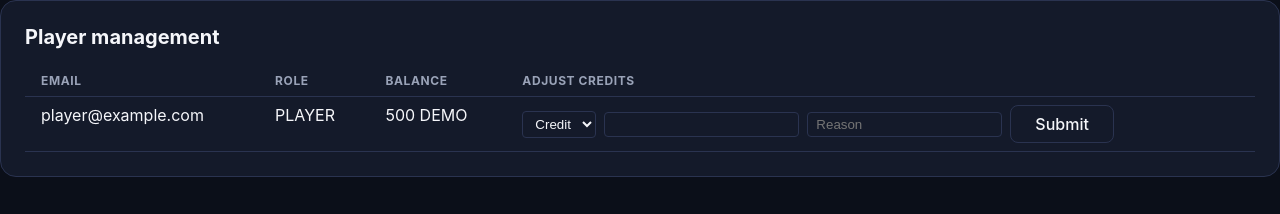
Scenario: PlayerManagement › submits a credit adjustment with the correct URL and body, then shows the new balance
The width and height of the screenshot is (1280, 214).
expect the text "player@example.com" is shown: met, box [25,96,259,152]
In the number field named "Adjustment amount for player@example.com": (702, 124) [604,112,799,136], type "50"
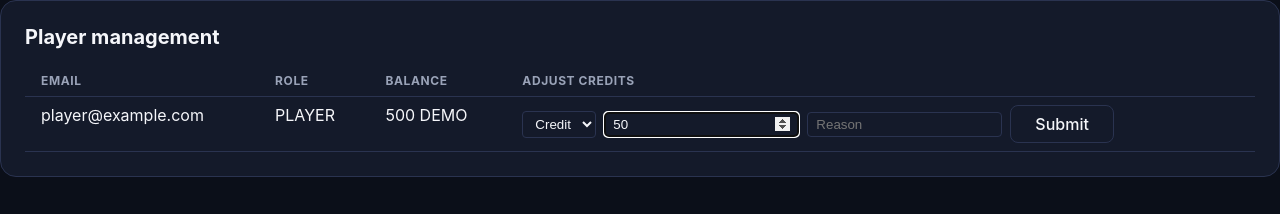
In the field named "Adjustment reason for player@example.com": (905, 124) [807,112,1002,136], type "Goodwill credit"
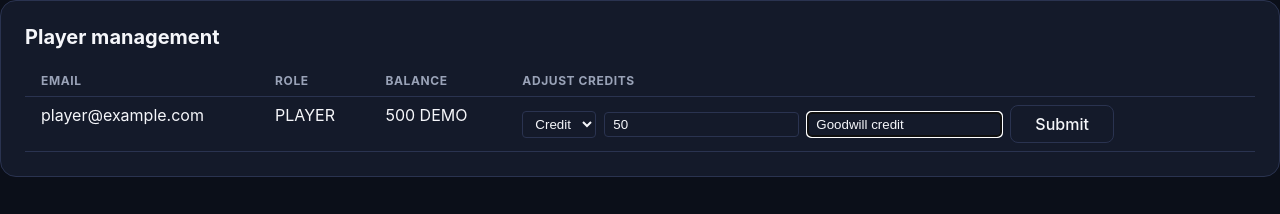
Click the button "Submit": (1062, 124) [1010,105,1114,143]
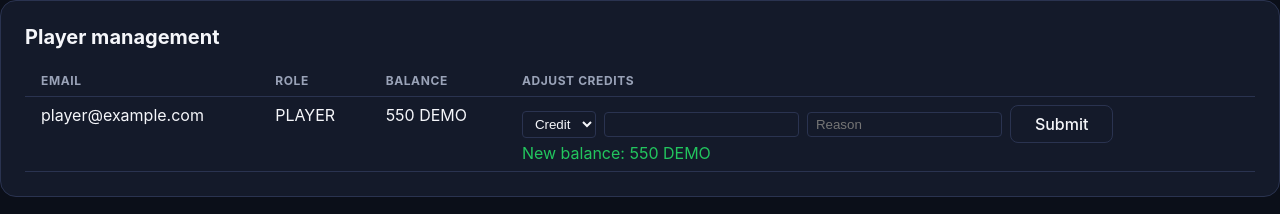
expect the text "New balance: 550 DEMO" is shown: met, box [522,143,711,163]
